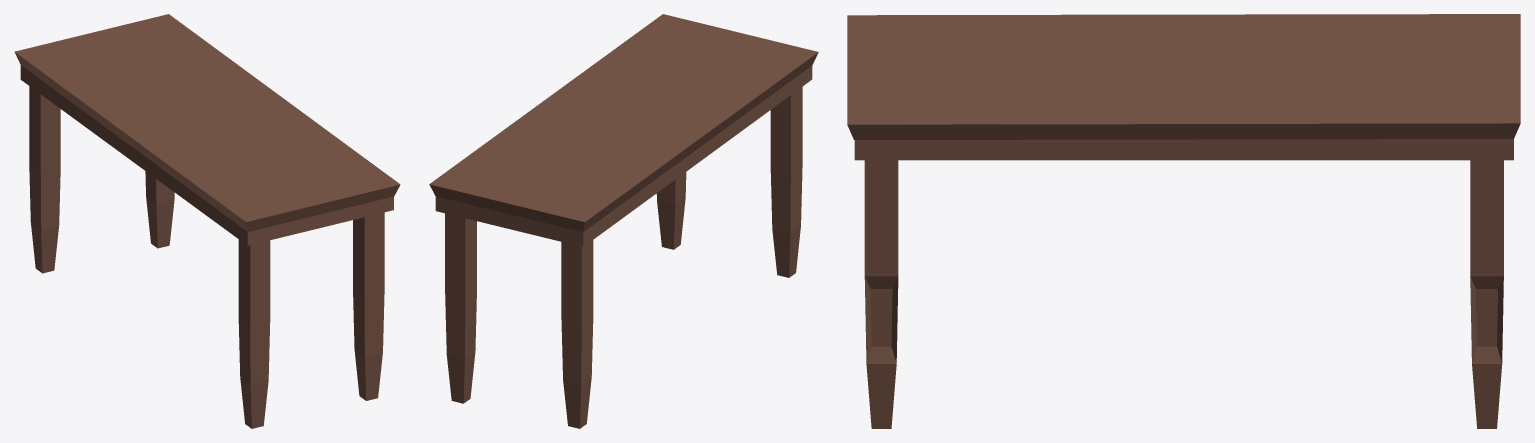
File: Table.glb
3 renders of one model, left to right at view 1: azimuth 30°, elevation 25°; view 2: azimuth 150°, elevation 25°; view 3: azimuth 270°, elevation 25°, orthographic. The views are drawn at different scales.
Parts seen in each view (by area): view 1: Table; view 2: Table; view 3: Table.
Boxes of the visible parts, x1,y1,x2,y2 form: Table: [14, 14, 400, 428]; Table: [429, 14, 818, 428]; Table: [847, 14, 1520, 428].
Size of the model in its own units: 0.5748 by 0.7726 by 1.49.
